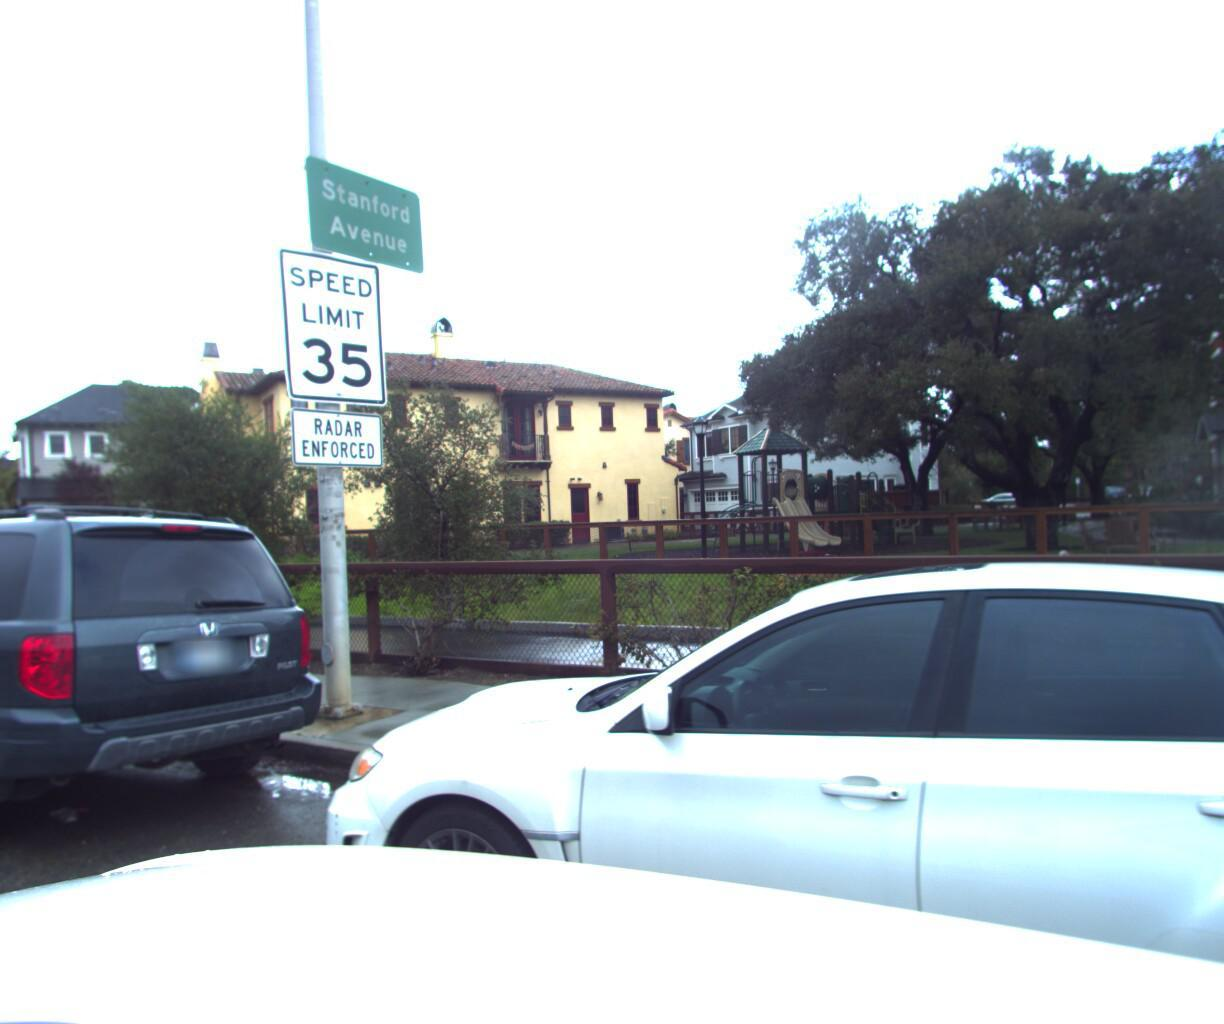car: (226, 521, 1224, 1024), (0, 495, 345, 916)
